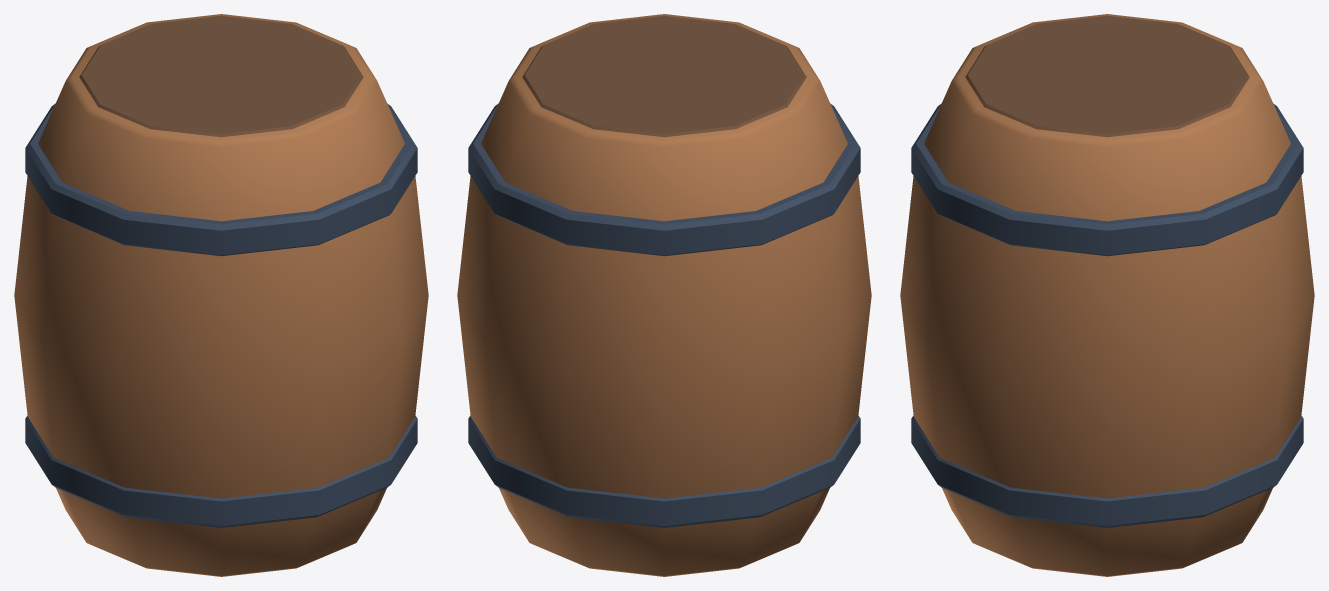
The model's file is wood_barrel_small_01.glb.
The picture shows the model from 3 angles, left to right: view 1: azimuth 30°, elevation 25°; view 2: azimuth 150°, elevation 25°; view 3: azimuth 270°, elevation 25°; orthographic projection.
Visible parts, largest first — view 1: wood_barrel_small_01; view 2: wood_barrel_small_01; view 3: wood_barrel_small_01.
Boxes of the visible parts, box(x1,y1,x2,y2) form: wood_barrel_small_01: box(14, 14, 428, 576); wood_barrel_small_01: box(457, 14, 871, 576); wood_barrel_small_01: box(900, 14, 1314, 576).
Bounding box in the file's own units: 0.3612 × 0.4221 × 0.3612.
